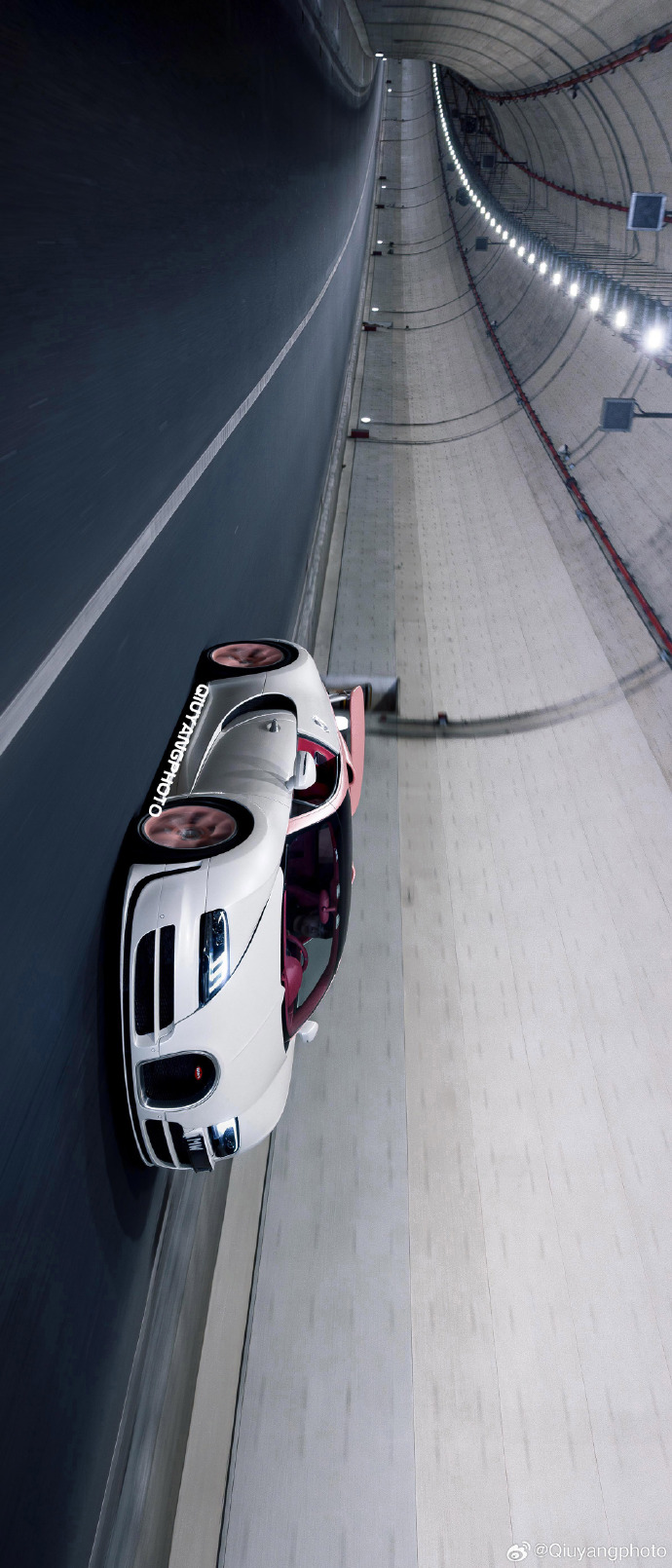other: (136, 595, 366, 1206)
